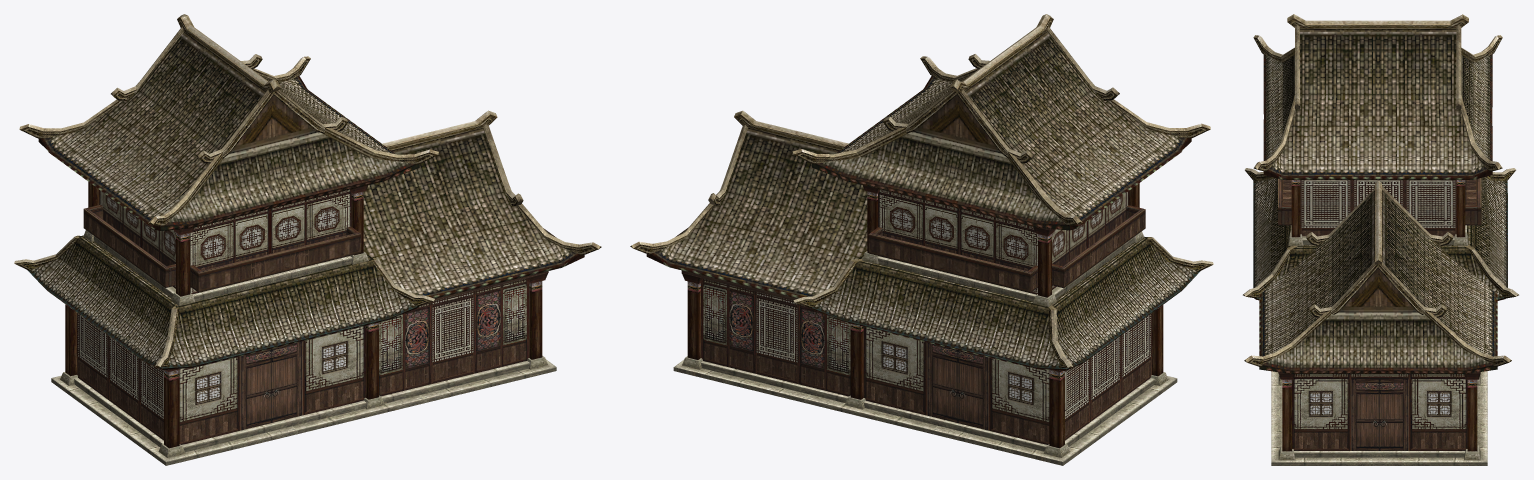
The model's file is itemshop.glb.
3 views of the same model, side by side, from view 1: azimuth 30°, elevation 25°; view 2: azimuth 150°, elevation 25°; view 3: azimuth 270°, elevation 25° (orthographic). The views are drawn at different scales.
Parts seen in each view (by area): view 1: b1-007-itemshop-01, b1-007-itemshop-02.001; view 2: b1-007-itemshop-01, b1-007-itemshop-02.001; view 3: b1-007-itemshop-01, b1-007-itemshop-02.001.
Part boxes in pixels (bbox=[...]): b1-007-itemshop-01: bbox=[14, 14, 601, 370]; b1-007-itemshop-02.001: bbox=[51, 182, 556, 465]; b1-007-itemshop-01: bbox=[630, 14, 1213, 370]; b1-007-itemshop-02.001: bbox=[673, 183, 1177, 465]; b1-007-itemshop-01: bbox=[1243, 14, 1518, 373]; b1-007-itemshop-02.001: bbox=[1271, 178, 1487, 465].
Size of the model in its own units: 1841 by 1368 by 1048.
2 materials, 2 textured.
